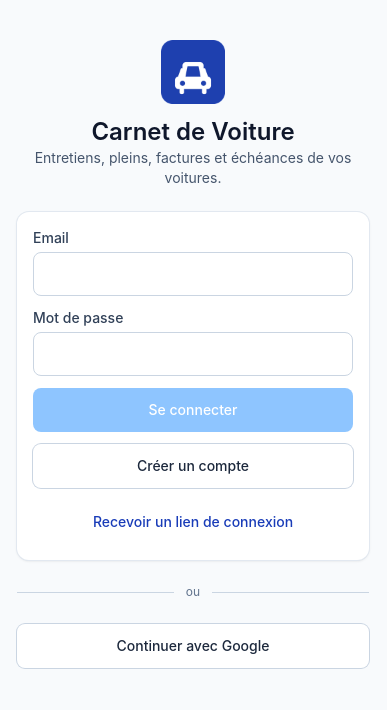
Test: confirms that the magic link was sent
Type "a@b.fr" into the field labelled "Email" at (193, 274), box x1=33 y1=252 x2=353 y2=296
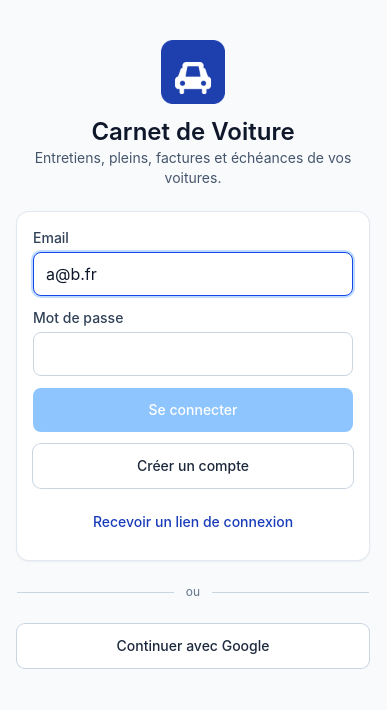
Click the button "Recevoir un lien de connexion" at (193, 522), box x1=33 y1=500 x2=353 y2=544
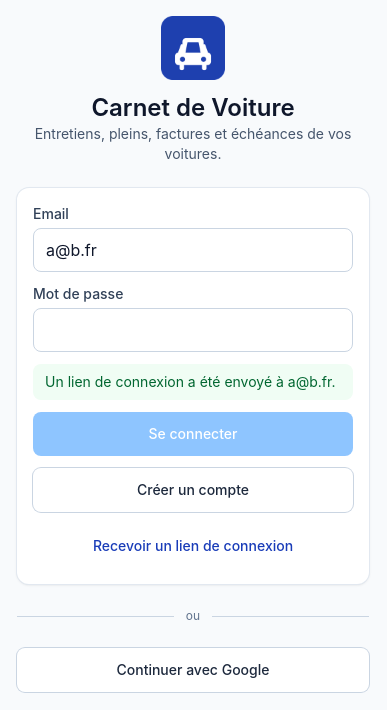
Expected: the text "Un lien de connexion a été envoyé à a@b.fr." is shown, x1=33 y1=364 x2=353 y2=400
